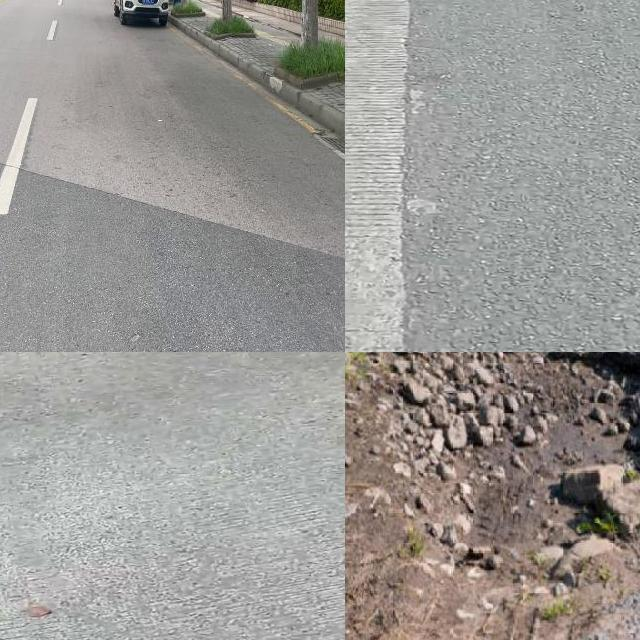Pinggir: (487, 352, 640, 639)
Sambungan: (0, 161, 345, 352)
